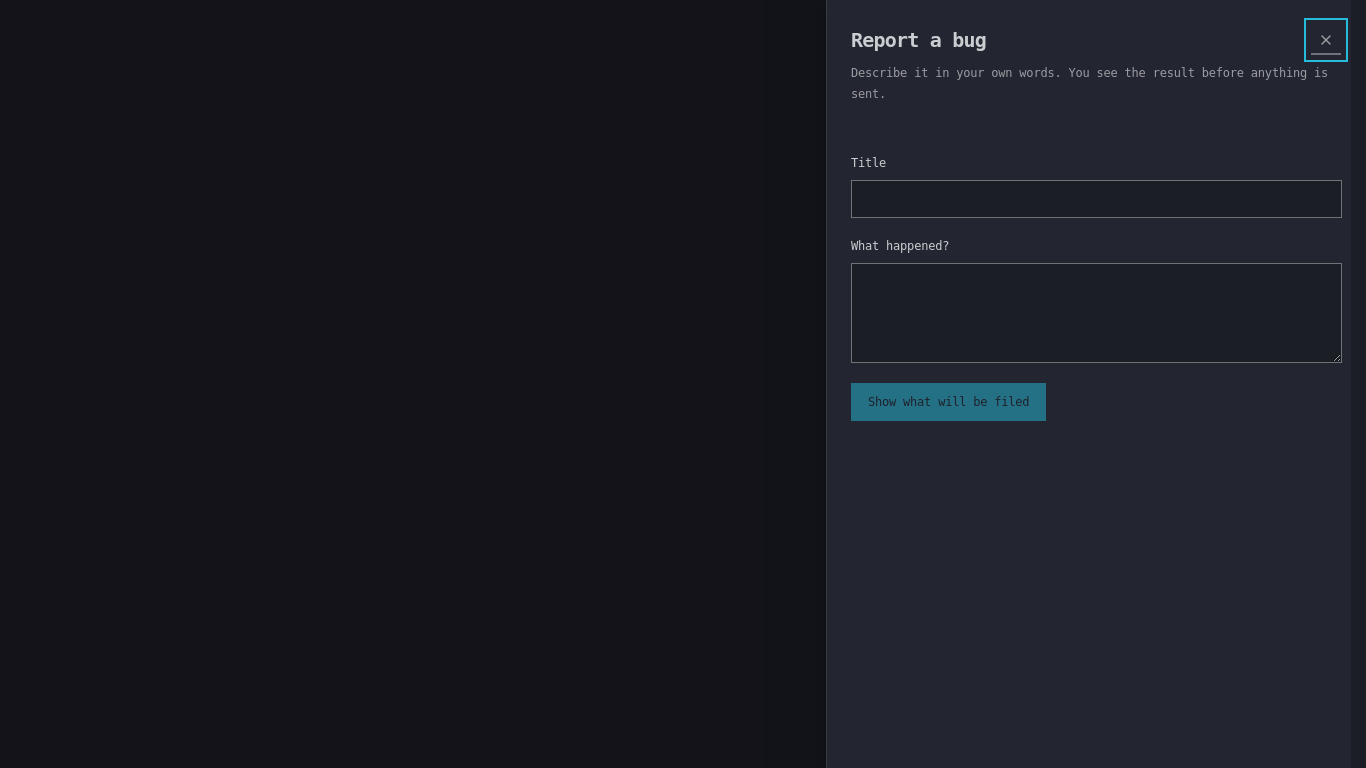
Test case: report sheet › shows the exact title and body, then links to the returned address
Click the field labelled "Title": click(1096, 199) [851,180,1342,218]
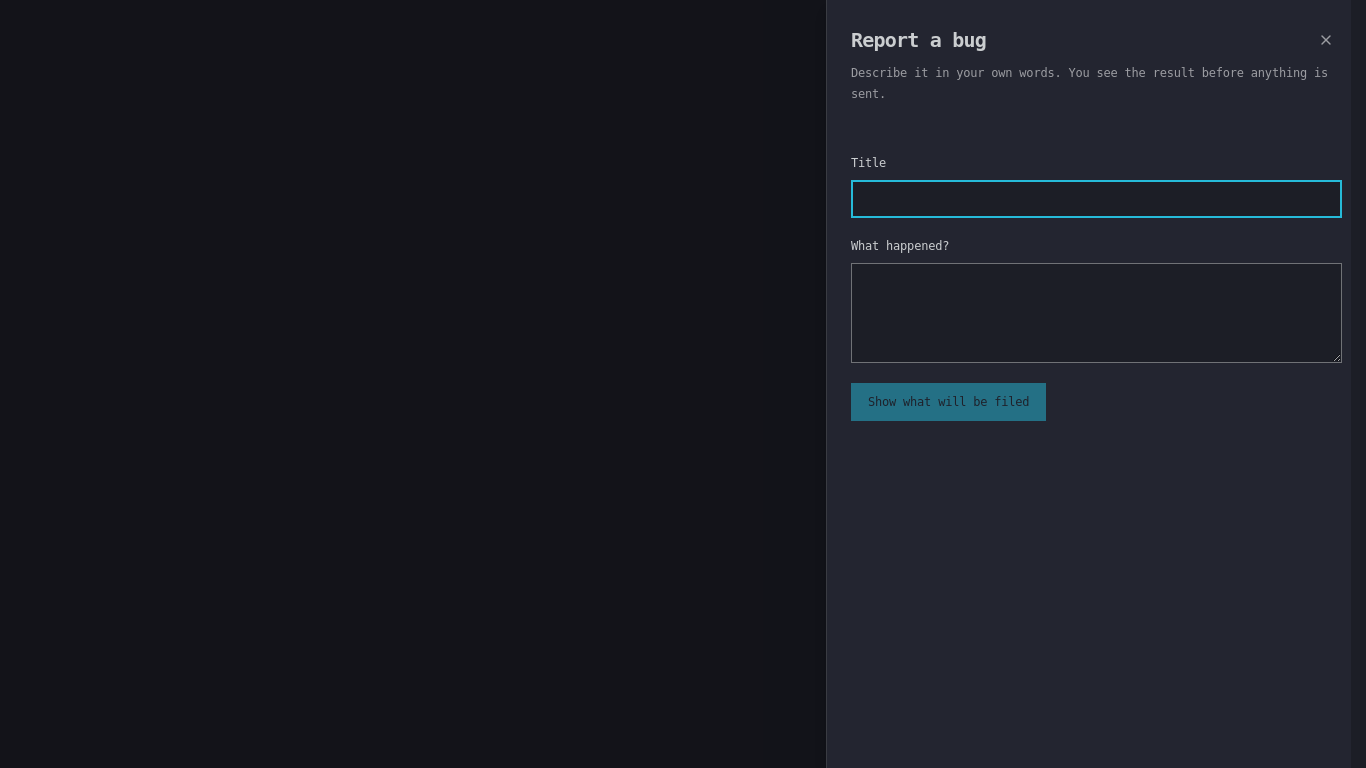
Type keys "Board stuck"
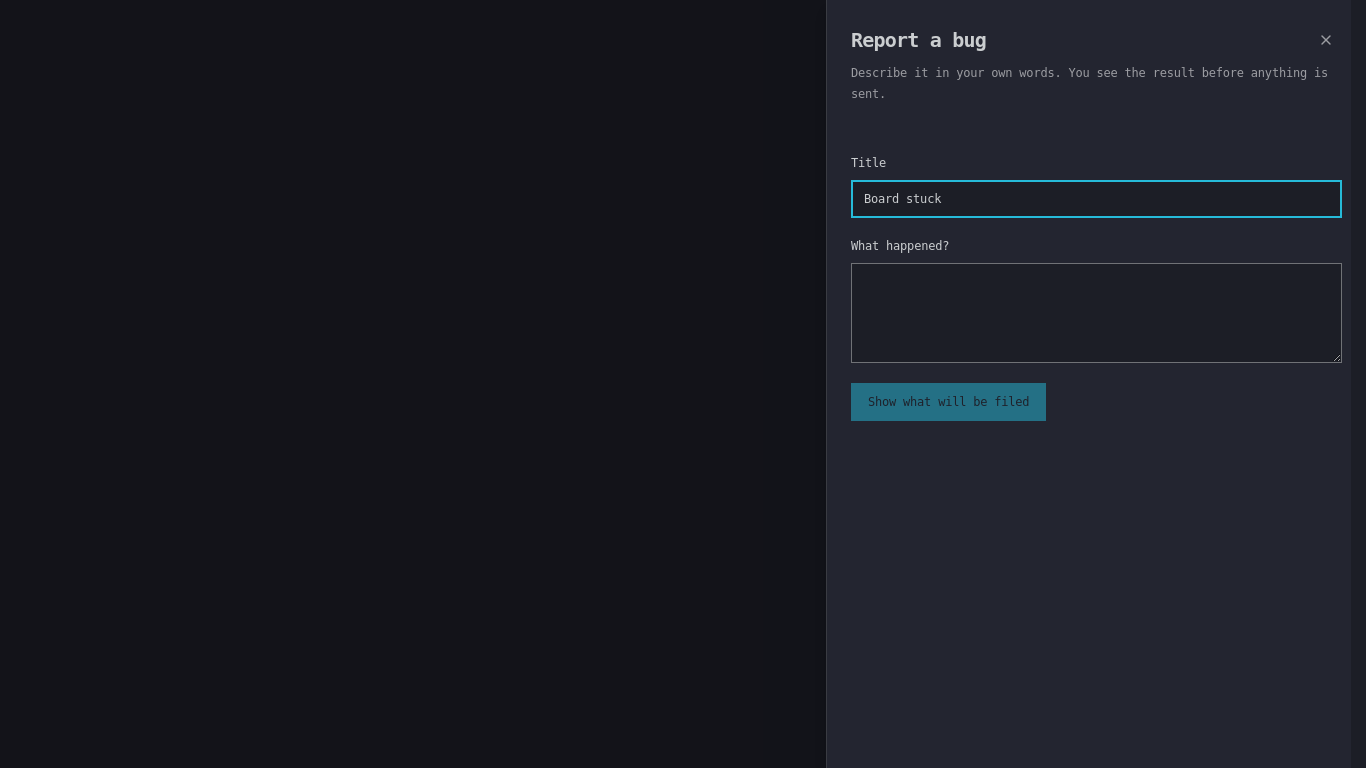
Click the text box labelled "What happened?": click(1096, 313) [851,263,1342,363]
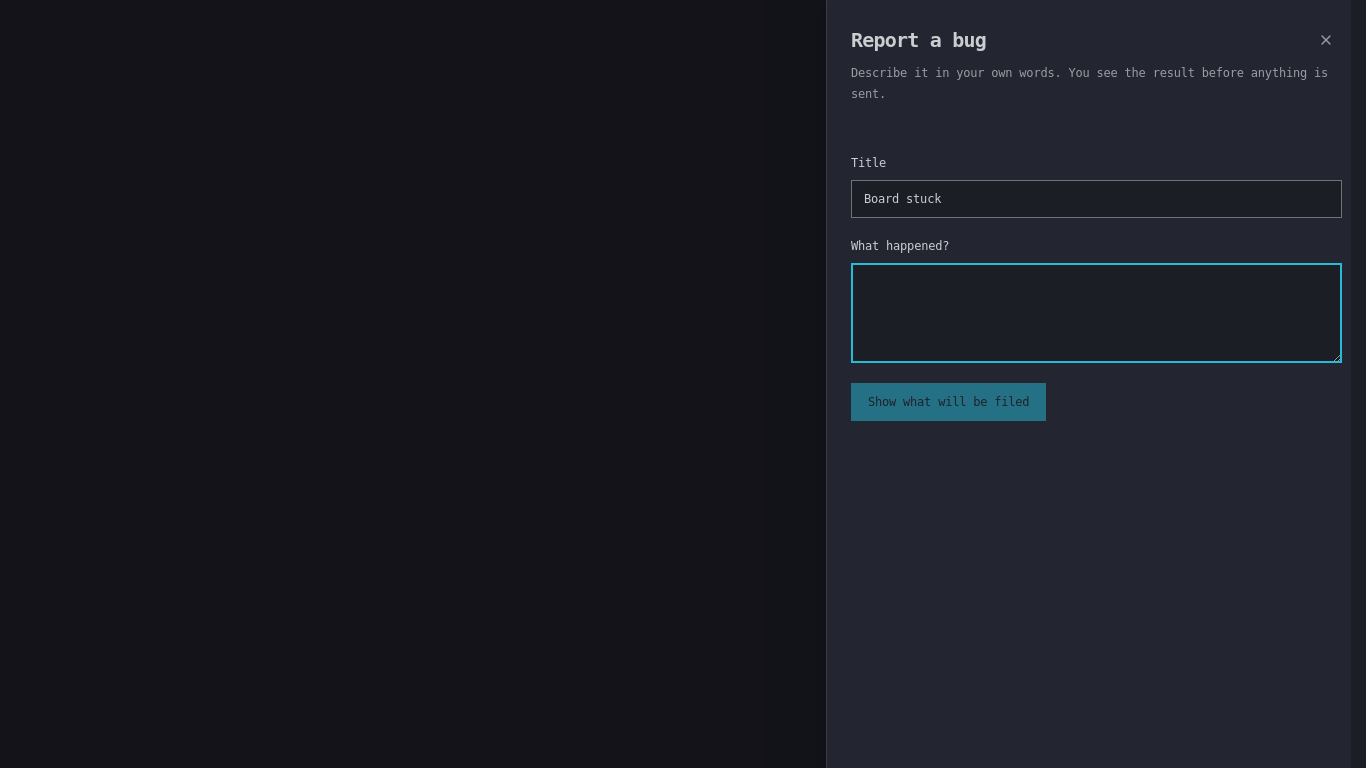
Type keys "It never moves"
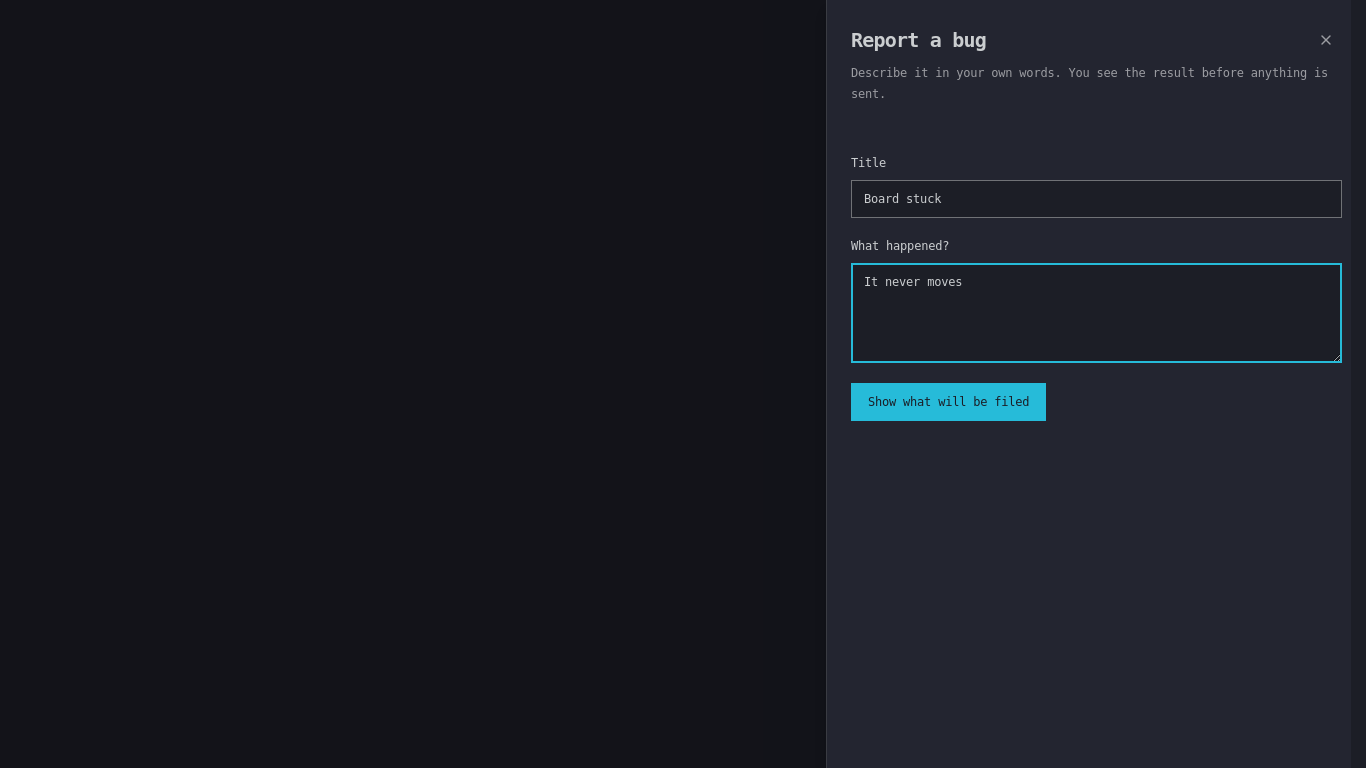
Click the button "Show what will be filed": click(949, 402) [851,383,1046,421]
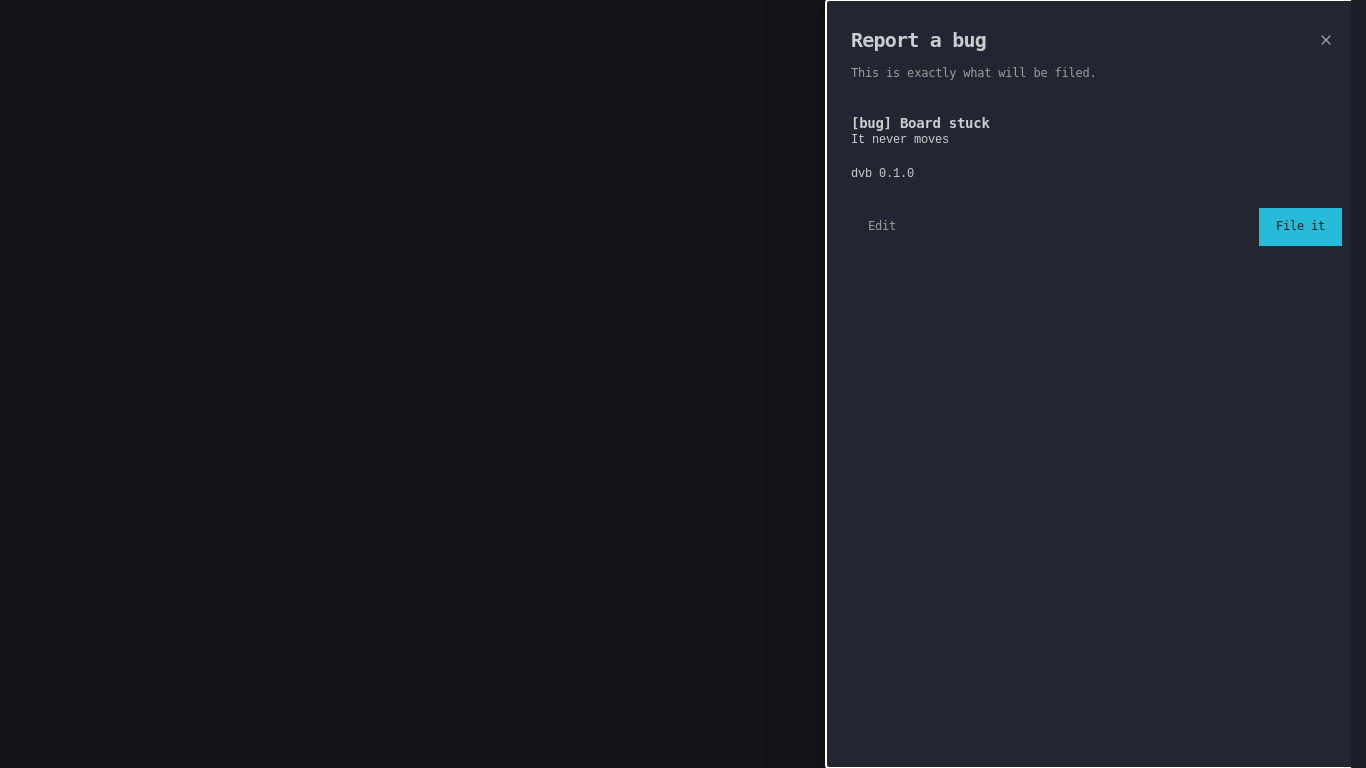
Result: the heading "[bug] Board stuck" is shown at [851,115,990,131]
Result: the text "It never moves dvb 0.1.0" is shown at [851,133,949,182]
